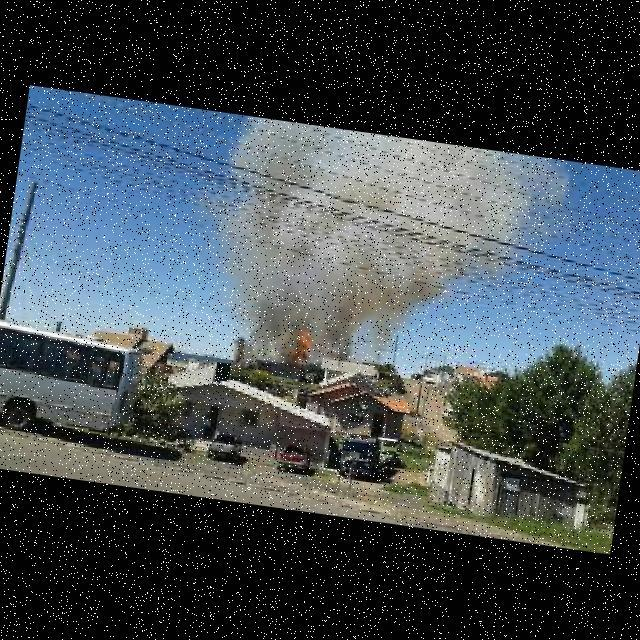Fire: (290, 321, 318, 368)
Smoke: (202, 114, 557, 378)
